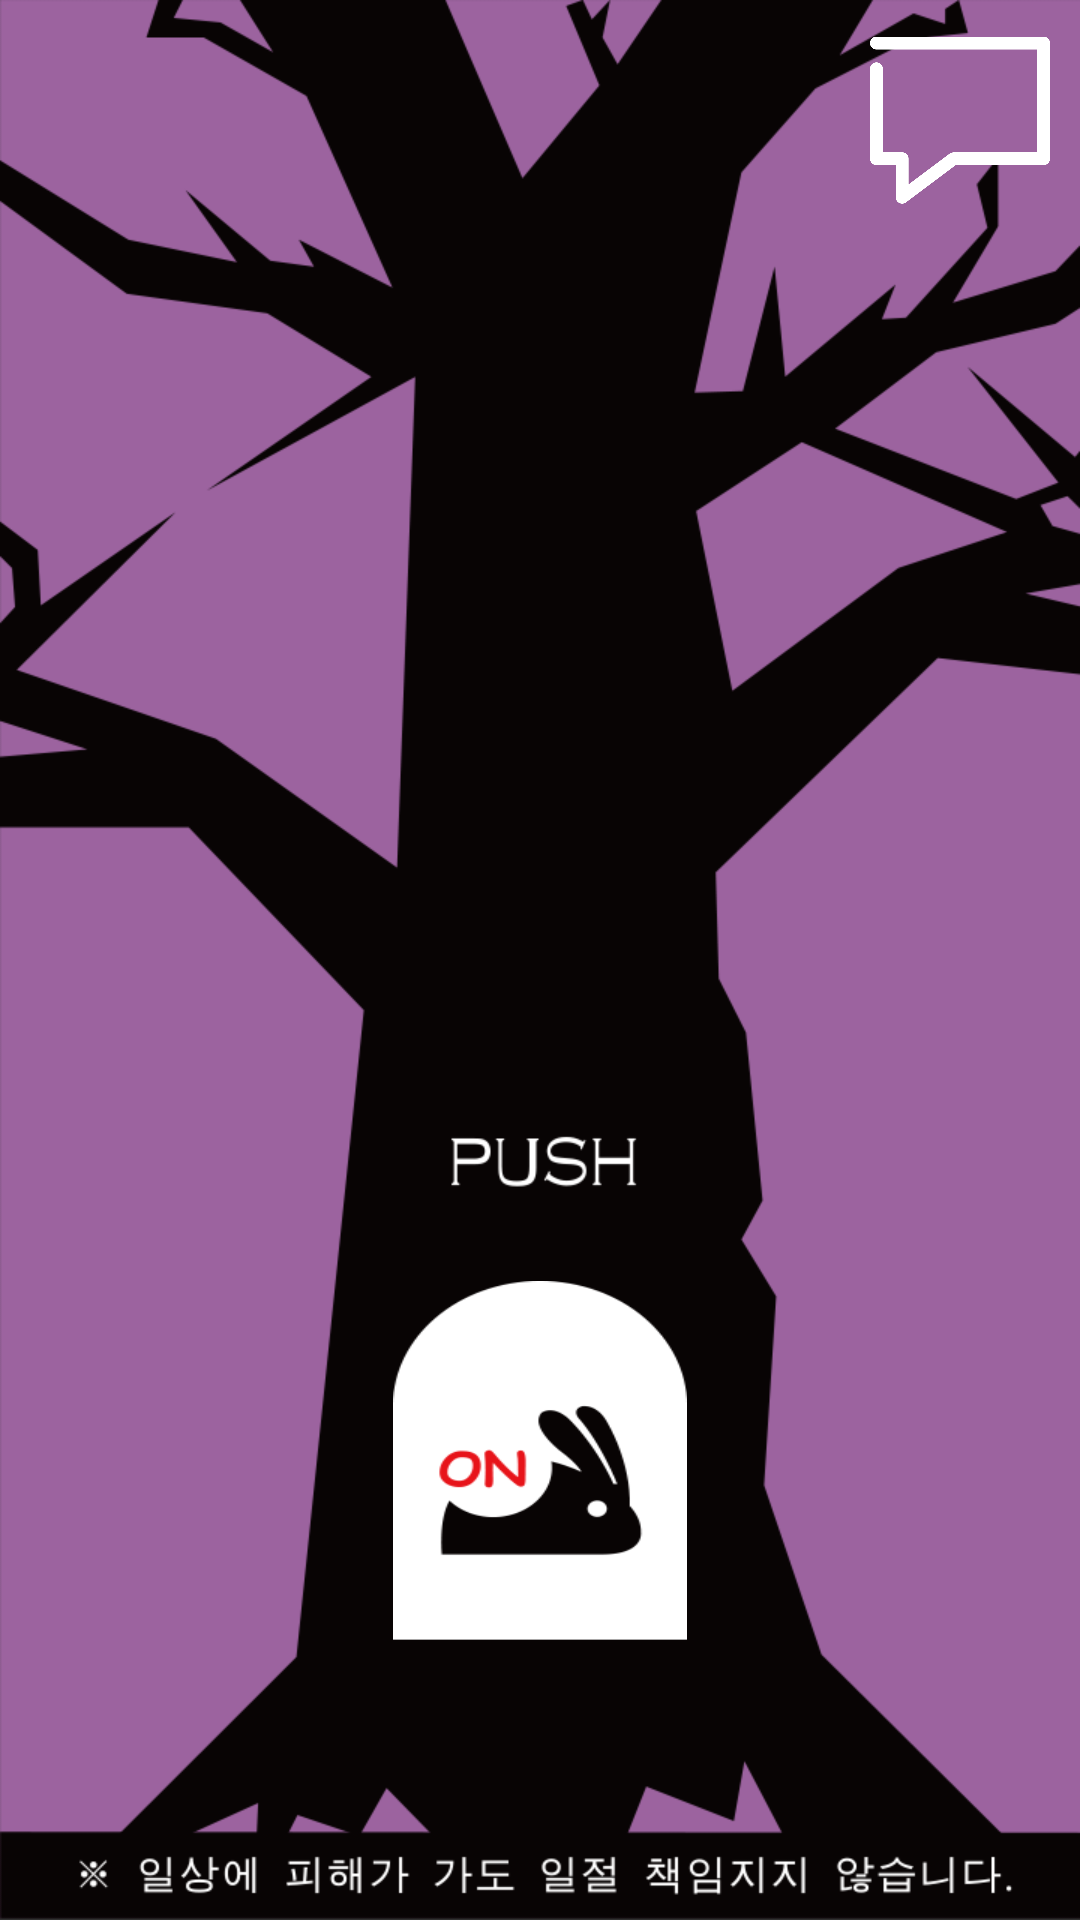

Screen size 1080*1920. Icon name, then its box in pixels as (x1, y1, x2, y2):
talk: (870, 30, 1050, 210)
